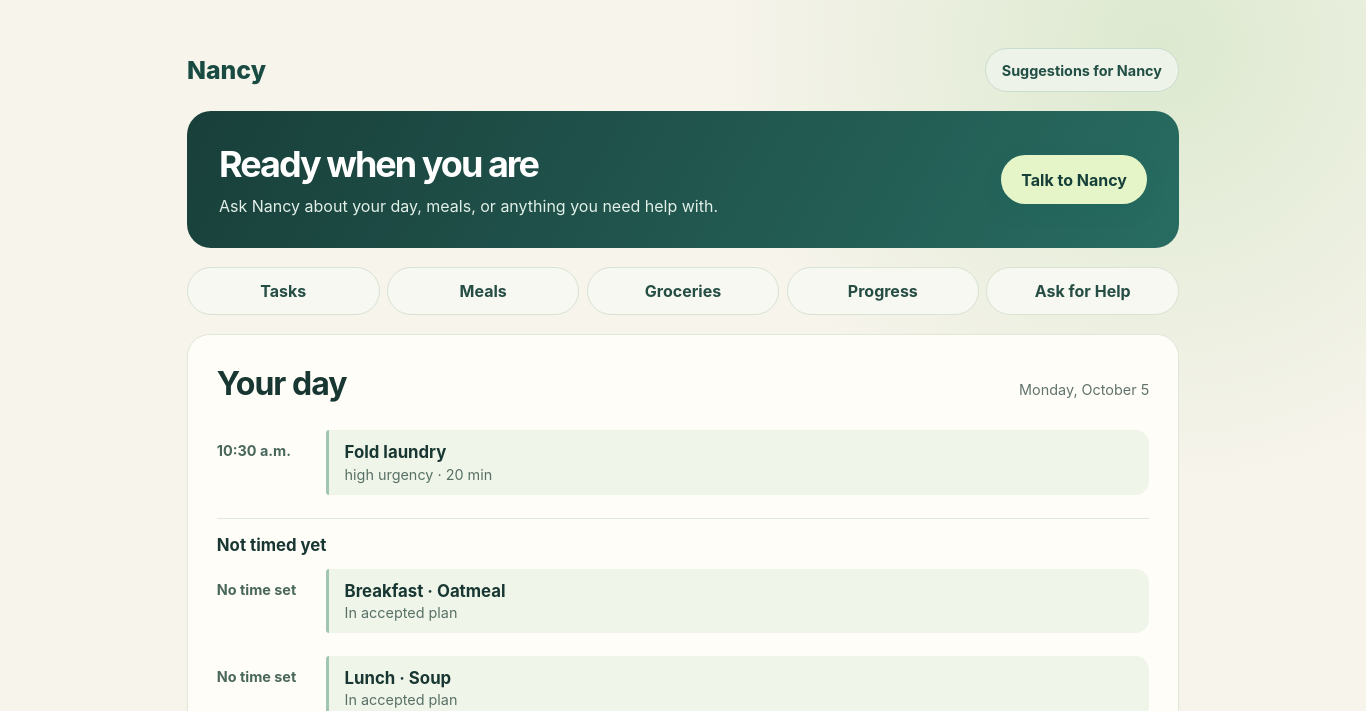
My Day client workflow › keeps an unplanned eaten meal separate from a different planned meal in the same slot
Click the button "Meals" at (483, 291), box [387,267,580,315]
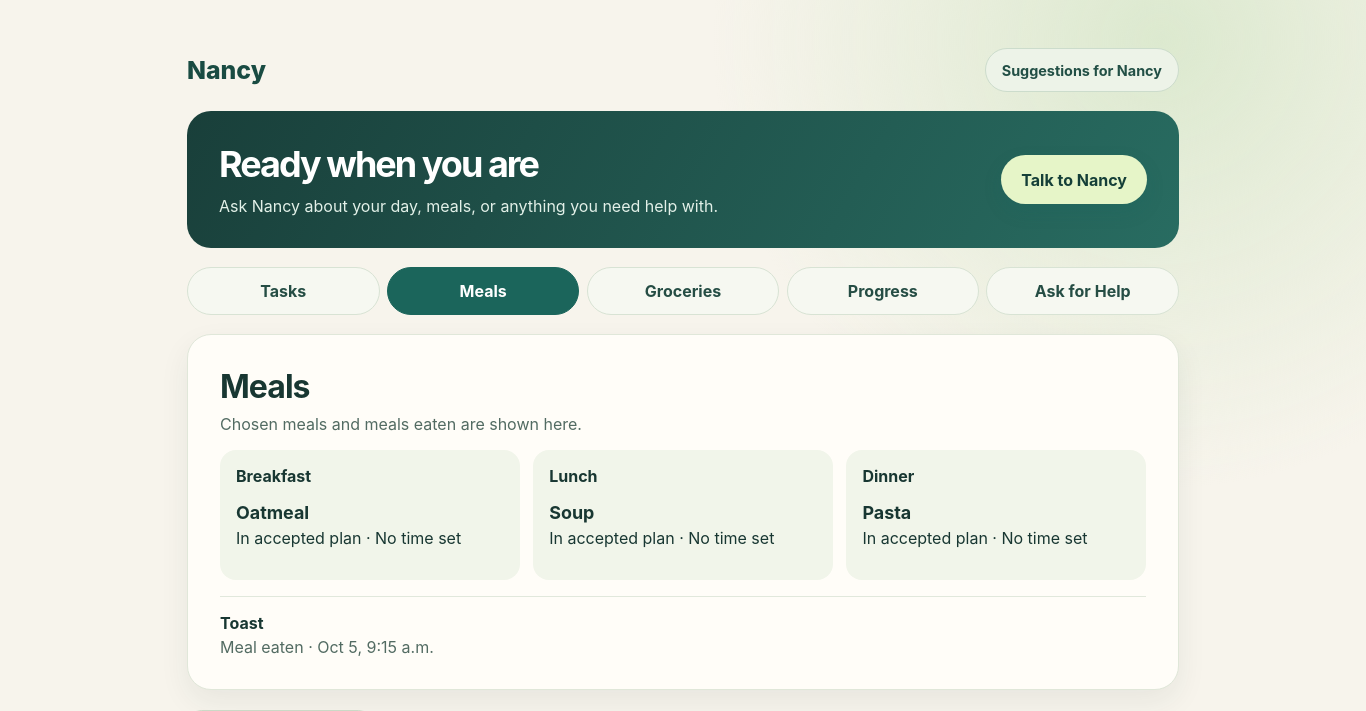
Result: the text "In accepted plan · No time set" below "Oatmeal" is shown at [236,528,461,548]
Result: the heading "Toast" is shown at [220,613,264,633]
Result: the text "Meal eaten · Oct 5, 9:15 a.m." is shown at [220,637,434,657]
